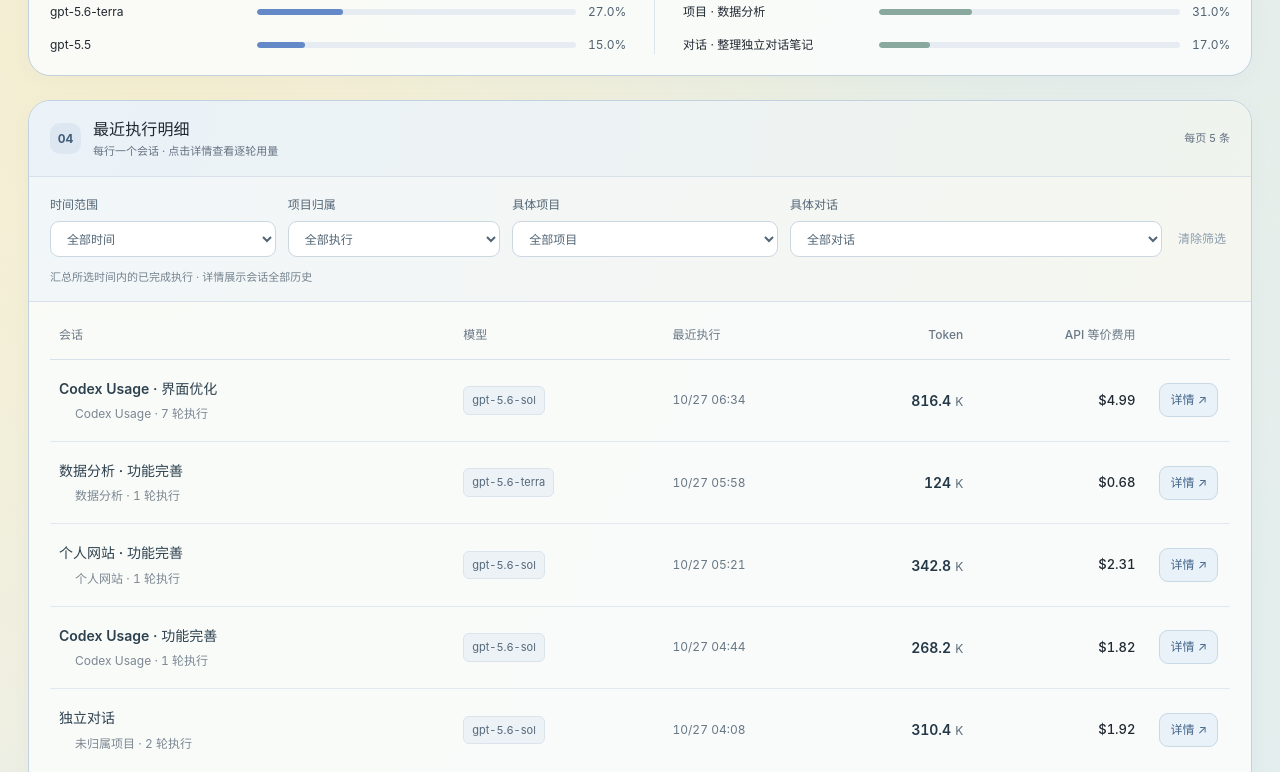
Test case: conversation-level usage dashboard › reports child-window failures instead of silently doing nothing
The width and height of the screenshot is (1280, 772).
(page scrolled)
Click the button with aria-label "查看会话详情：Codex Usage · 界面优化" at (1189, 400), box [1160, 383, 1218, 417]
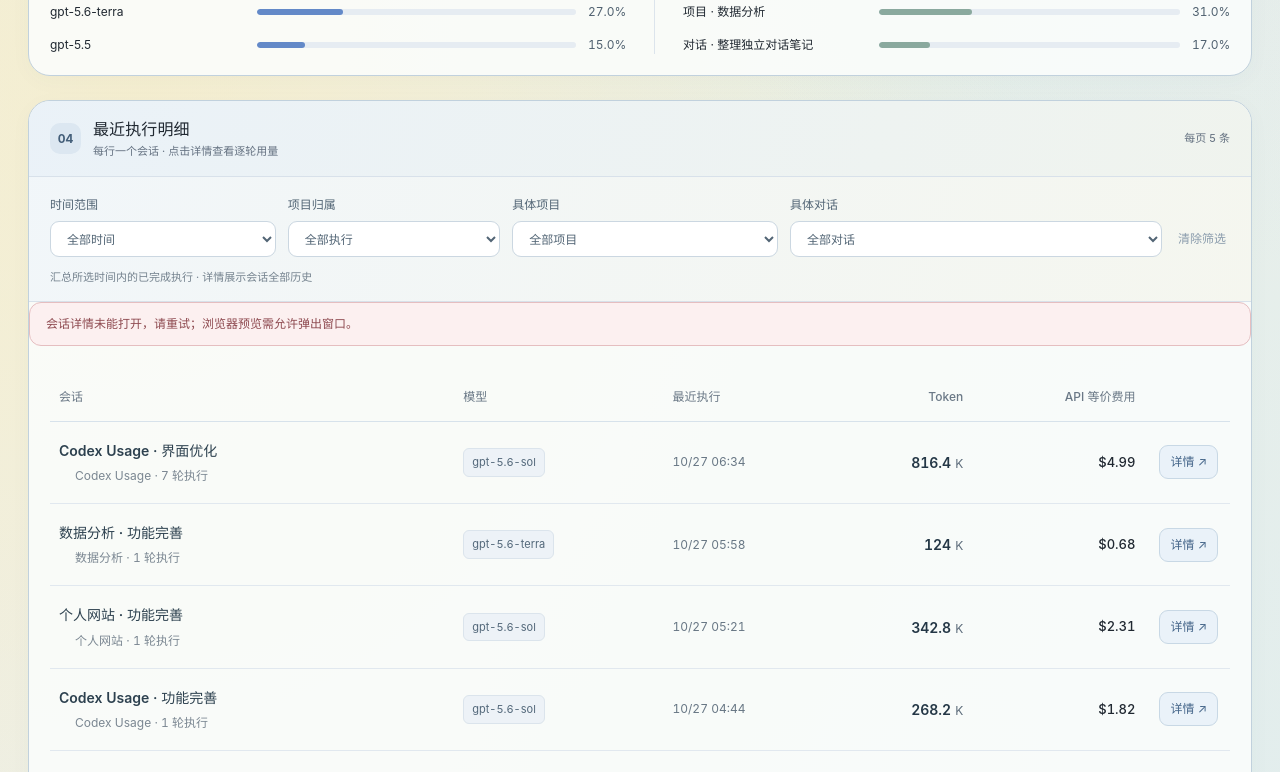
Now the message shows "会话详情未能打开", box [46, 316, 358, 331]
